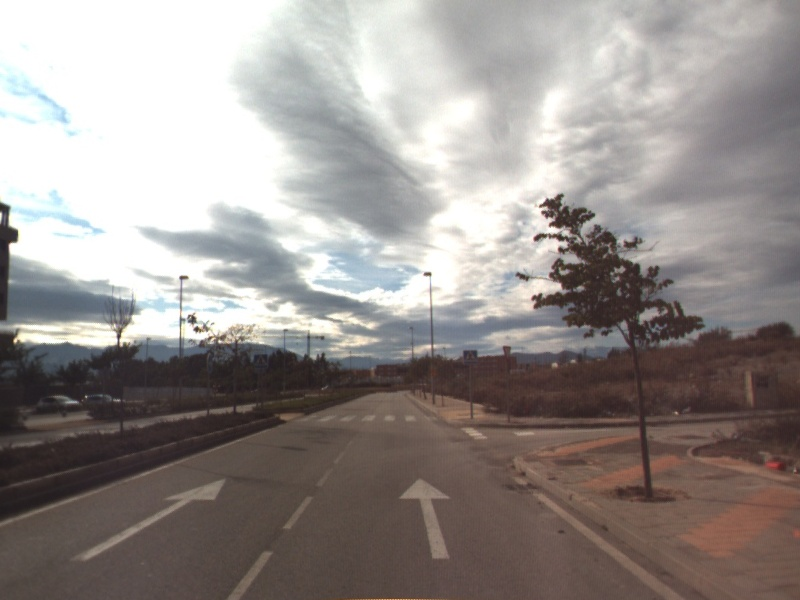STRAIGHT: (68, 476, 228, 564), (396, 475, 454, 561)
